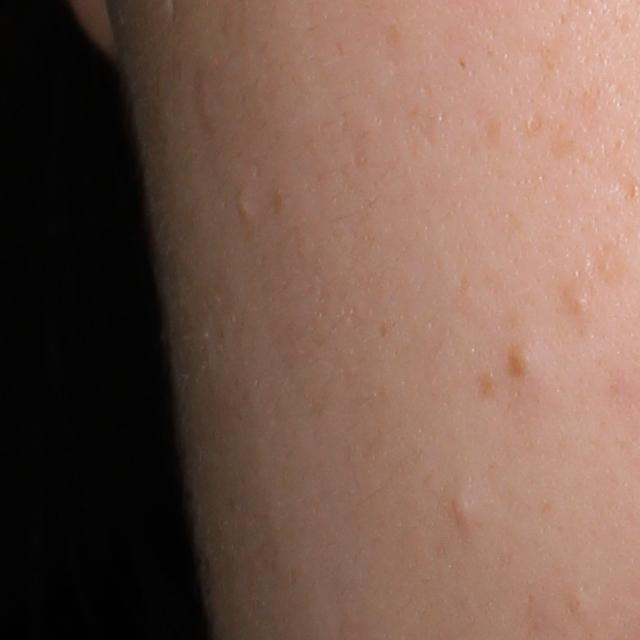comedo: (502, 340, 533, 381), (558, 286, 592, 319), (232, 191, 260, 225), (450, 494, 476, 526), (570, 591, 593, 617)
